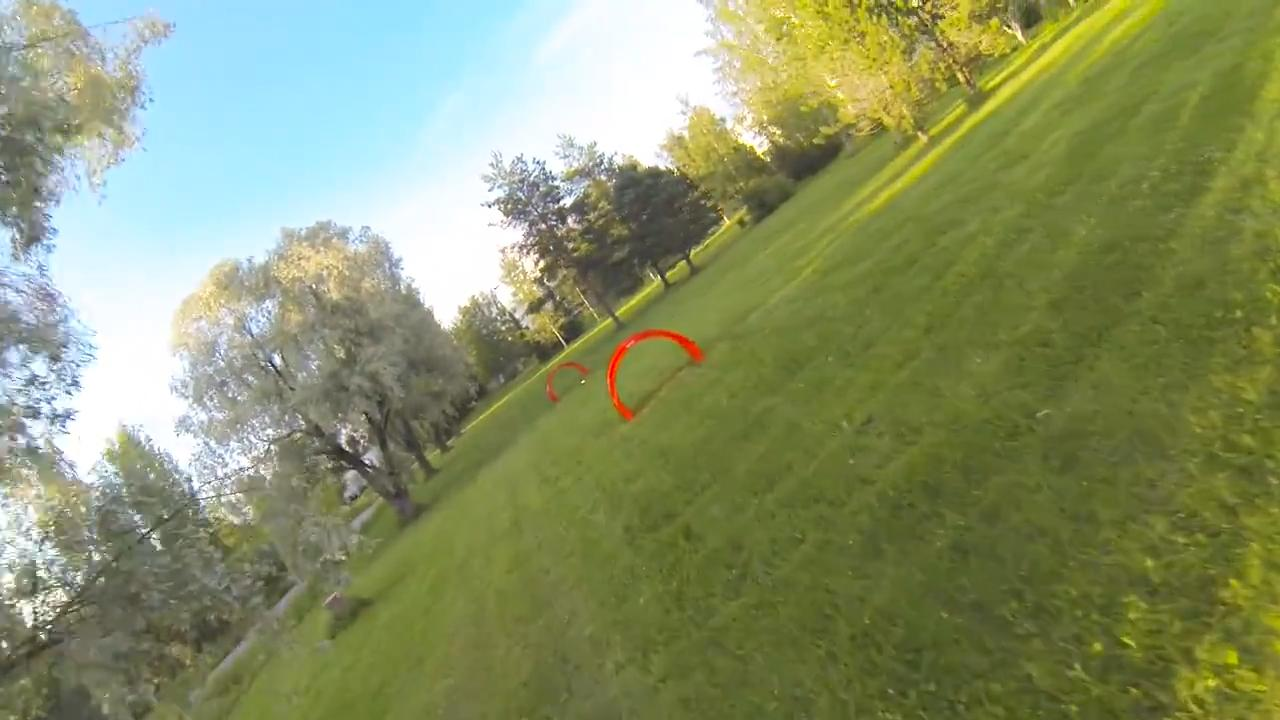gate: (603, 325, 709, 423)
